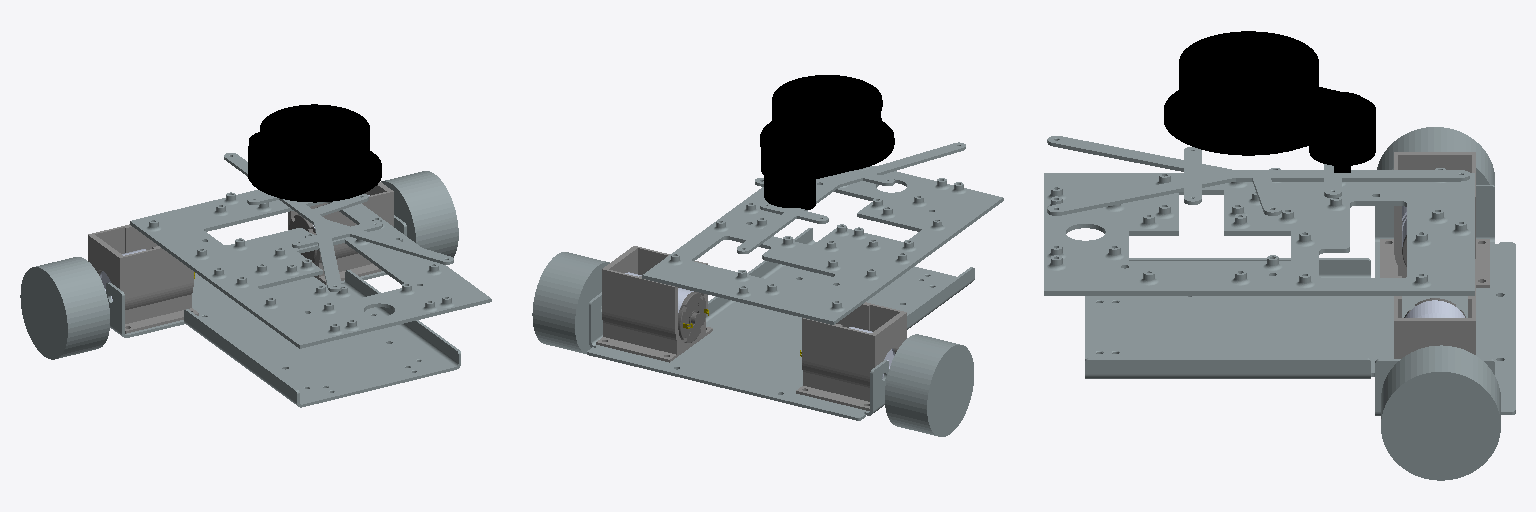
robot.urdf — robotassembly:
<robot name="robotassembly">
    <link name="base_footprint" />

    <link name="base_link" />

    <joint name="base_footprint_to_base_link_joint" type="fixed">
        <origin xyz="0 0 0" rpy="0 0 0" />
        <parent link="base_footprint" />
        <child link="base_link" />
    </joint>

    <joint name="base_link_to_root_joint" type="fixed">
        <origin xyz="0 0 0" rpy="0 0 0" />
        <parent link="base_link" />
        <child link="root" />
    </joint>

    <link name="motor_shaft__jgb37_520__chamfer1">
        <inertial>
            <mass value="5.9251e-07" />
            <origin xyz="-5.99947e-05 -1.4541e-10 0.0106081" rpy="0 -0 0" />
            <inertia ixx="2.40785e-11" ixy="0" ixz="1.68452e-13" iyy="2.39875e-11" iyz="0" izz="2.61188e-12" />
        </inertial>
        <visual>
            <origin xyz="0 0 0" rpy="0 -0 0" />
            <geometry>
                <mesh filename="package://robotassembly/meshes/MOTOR_SHAFT__JGB37_520__CHAMFER1.stl" scale="1 1 1" />
            </geometry>
            <material name="0.811765_0.843137_0.909804_0.000000_0.000000">
                <color rgba="0.811765 0.843137 0.909804 1" />
            </material>
        </visual>
    </link>

    <link name="motor_shaft__jgb37_520__chamfer1_1">
        <inertial>
            <mass value="5.9251e-07" />
            <origin xyz="-5.99947e-05 -1.4541e-10 0.0106081" rpy="0 -0 0" />
            <inertia ixx="2.40785e-11" ixy="0" ixz="1.68452e-13" iyy="2.39875e-11" iyz="0" izz="2.61188e-12" />
        </inertial>
        <visual>
            <origin xyz="0 0 0" rpy="0 -0 0" />
            <geometry>
                <mesh filename="package://robotassembly/meshes/MOTOR_SHAFT__JGB37_520__CHAMFER1.stl" scale="1 1 1" />
            </geometry>
            <material name="0.811765_0.843137_0.909804_0.000000_0.000000">
                <color rgba="0.811765 0.843137 0.909804 1" />
            </material>
        </visual>
    </link>

    <link name="root">
        <visual>
            <origin xyz="-0.0695 -0.126 0.0685" rpy="0 -0 0" />
            <geometry>
                <mesh filename="package://robotassembly/meshes/rplidarsheet__SB_Tab__1_.stl" scale="1 1 1" />
            </geometry>
            <material name="0.611765_0.658824_0.670588_0.000000_0.000000">
                <color rgba="0.611765 0.658824 0.670588 1" />
            </material>
        </visual>
        <visual>
            <origin xyz="0.0005 -0.0175 0.036" rpy="0 -0 0" />
            <geometry>
                <mesh filename="package://robotassembly/meshes/lastbaseplate__BODY1.stl" scale="1 1 1" />
            </geometry>
            <material name="0.611765_0.658824_0.670588_0.000000_0.000000">
                <texture />
                <color rgba="0.611765 0.658824 0.670588 1" />
            </material>
        </visual>
        <visual>
            <origin xyz="0.0005 -0.0255 0.1005" rpy="8.05827e-16 -5.87673e-16 1.5708" />
            <geometry>
                <mesh filename="package://robotassembly/meshes/RPlidar__Body1.stl" scale="1 1 1" />
            </geometry>
            <material name="0.000000_0.000000_0.000000_0.000000_0.000000">
                <texture />
                <color rgba="0 0 0 1" />
            </material>
        </visual>
        <visual>
            <origin xyz="-0.096 0.0675 0.00637336" rpy="-1.5708 -1.25363e-06 1.5708" />
            <geometry>
                <mesh filename="package://robotassembly/meshes/GEARED_BODY__MOTOR__JGB37_5201484__BODY2.stl" scale="1 1 1" />
            </geometry>
            <material name="0.600000_0.600000_0.600000_0.000000_0.000000">
                <texture />
                <color rgba="0.6 0.6 0.6 1" />
            </material>
        </visual>
        <visual>
            <origin xyz="0.096 0.0674981 0.00639603" rpy="-1.5708 -0.000754694 -1.5708" />
            <geometry>
                <mesh filename="package://robotassembly/meshes/GEARED_BODY__MOTOR__JGB37_5201484__BODY2.stl" scale="1 1 1" />
            </geometry>
            <material name="0.600000_0.600000_0.600000_0.000000_0.000000">
                <texture />
                <color rgba="0.6 0.6 0.6 1" />
            </material>
        </visual>
        <visual>
            <origin xyz="-0.1 -0.1075 -0.016" rpy="0 -0 0" />
            <geometry>
                <mesh filename="package://robotassembly/meshes/Sheetmetalbase__SB_Tab__1_.stl" scale="1 1 1" />
            </geometry>
            <material name="0.611765_0.658824_0.670588_0.000000_0.000000">
                <texture />
                <color rgba="0.611765 0.658824 0.670588 1" />
            </material>
        </visual>
        <visual>
            <origin xyz="-0.096 0.0675 0.00637336" rpy="-1.5708 -1.25363e-06 1.5708" />
            <geometry>
                <mesh filename="package://robotassembly/meshes/GEARED_BODY__MOTOR__JGB37_520__FILLET1.stl" scale="1 1 1" />
            </geometry>
            <material name="0.811765_0.843137_0.909804_0.000000_0.000000">
                <texture />
                <color rgba="0.811765 0.843137 0.909804 1" />
            </material>
        </visual>
        <visual>
            <origin xyz="-0.067 0.0675 0.00637336" rpy="0 1.5708 3.14159" />
            <geometry>
                <mesh filename="package://robotassembly/meshes/DC_MOTOR__JGB37_520__FILLET1.stl" scale="1 1 1" />
            </geometry>
            <material name="0.811765_0.843137_0.909804_0.000000_0.000000">
                <texture />
                <color rgba="0.811765 0.843137 0.909804 1" />
            </material>
        </visual>
        <visual>
            <origin xyz="-0.096 0.052 0.00637334" rpy="1.164 2.07079e-15 1.39184e-15" />
            <geometry>
                <mesh filename="package://robotassembly/meshes/pan_cross_head_am_B18_6_7M___M2_x_0_4_x_25_Type_I_Cross_Recessed_PHMS___25N__CIRPATTERN1.stl" scale="1 1 1" />
            </geometry>
            <material name="0.800000_0.800000_0.800000_0.000000_0.000000">
                <texture />
                <color rgba="0.8 0.8 0.8 1" />
            </material>
        </visual>
        <visual>
            <origin xyz="-0.096 0.0675 -0.000626644" rpy="-1.5708 -0.683857 1.5708" />
            <geometry>
                <mesh filename="package://robotassembly/meshes/SHAFT_COUPLER__JGB37_520__CHAMFER1.stl" scale="1 1 1" />
            </geometry>
            <material name="0.811765_0.843137_0.909804_0.000000_0.000000">
                <texture />
                <color rgba="0.811765 0.843137 0.909804 1" />
            </material>
        </visual>
        <visual>
            <origin xyz="-0.071 0.0675 0.00637336" rpy="0 1.5708 -3.14159" />
            <geometry>
                <mesh filename="package://robotassembly/meshes/COUPLING_BRACKET__GEARED_BODY_TO_DC_MOTOR__JGB37_520__CUT_EXTRUDE1.stl" scale="1 1 1" />
            </geometry>
            <material name="0.811765_0.843137_0.909804_0.000000_0.000000">
                <texture />
                <color rgba="0.811765 0.843137 0.909804 1" />
            </material>
        </visual>
        <visual>
            <origin xyz="-0.04575 0.0803 0.00637337" rpy="0 1.5708 -1.25363e-06" />
            <geometry>
                <mesh filename="package://robotassembly/meshes/CONNECTION__DC_MOTOR__JGB37_520__CHAMFER1.stl" scale="1 1 1" />
            </geometry>
            <material name="0.607843_0.564706_0.000000_0.000000_0.000000">
                <texture />
                <color rgba="0.607843 0.564706 0 1" />
            </material>
        </visual>
        <visual>
            <origin xyz="-0.096 0.07525 0.0197968" rpy="-0.930396 2.07079e-15 1.39184e-15" />
            <geometry>
                <mesh filename="package://robotassembly/meshes/pan_cross_head_am_B18_6_7M___M2_x_0_4_x_25_Type_I_Cross_Recessed_PHMS___25N__CIRPATTERN1.stl" scale="1 1 1" />
            </geometry>
            <material name="0.800000_0.800000_0.800000_0.000000_0.000000">
                <texture />
                <color rgba="0.8 0.8 0.8 1" />
            </material>
        </visual>
        <visual>
            <origin xyz="-0.04575 0.0547 0.00637334" rpy="0 -1.5708 3.14159" />
            <geometry>
                <mesh filename="package://robotassembly/meshes/CONNECTION__DC_MOTOR__JGB37_520__CHAMFER1.stl" scale="1 1 1" />
            </geometry>
            <material name="0.607843_0.564706_0.000000_0.000000_0.000000">
                <texture />
                <color rgba="0.607843 0.564706 0 1" />
            </material>
        </visual>
        <visual>
            <origin xyz="-0.0475 0.0675 0.00637336" rpy="0 -1.5708 1.25363e-06" />
            <geometry>
                <mesh filename="package://robotassembly/meshes/PLASTIC_COVER__DC_MOTOR__JGB37_520__FILLET2.stl" scale="1 1 1" />
            </geometry>
            <material name="0.490196_0.490196_0.490196_0.000000_0.000000">
                <texture />
                <color rgba="0.490196 0.490196 0.490196 1" />
            </material>
        </visual>
        <visual>
            <origin xyz="-0.096 0.07525 -0.00705003" rpy="-3.02479 2.07079e-15 1.39184e-15" />
            <geometry>
                <mesh filename="package://robotassembly/meshes/pan_cross_head_am_B18_6_7M___M2_x_0_4_x_25_Type_I_Cross_Recessed_PHMS___25N__CIRPATTERN1.stl" scale="1 1 1" />
            </geometry>
            <material name="0.800000_0.800000_0.800000_0.000000_0.000000">
                <texture />
                <color rgba="0.8 0.8 0.8 1" />
            </material>
        </visual>
        <visual>
            <origin xyz="0.04575 0.0546981 0.00640569" rpy="0 1.5708 -3.14235" />
            <geometry>
                <mesh filename="package://robotassembly/meshes/CONNECTION__DC_MOTOR__JGB37_520__CHAMFER1.stl" scale="1 1 1" />
            </geometry>
            <material name="0.607843_0.564706_0.000000_0.000000_0.000000">
                <texture />
                <color rgba="0.607843 0.564706 0 1" />
            </material>
        </visual>
        <visual>
            <origin xyz="0.096 0.0597379 -0.00702151" rpy="-3.02404 4.62013e-15 -3.14159" />
            <geometry>
                <mesh filename="package://robotassembly/meshes/pan_cross_head_am_B18_6_7M___M2_x_0_4_x_25_Type_I_Cross_Recessed_PHMS___25N__CIRPATTERN1.stl" scale="1 1 1" />
            </geometry>
            <material name="0.800000_0.800000_0.800000_0.000000_0.000000">
                <texture />
                <color rgba="0.8 0.8 0.8 1" />
            </material>
        </visual>
        <visual>
            <origin xyz="0.096 0.0674928 -0.000603964" rpy="-1.5708 -0.68461 -1.5708" />
            <geometry>
                <mesh filename="package://robotassembly/meshes/SHAFT_COUPLER__JGB37_520__CHAMFER1.stl" scale="1 1 1" />
            </geometry>
            <material name="0.811765_0.843137_0.909804_0.000000_0.000000">
                <texture />
                <color rgba="0.811765 0.843137 0.909804 1" />
            </material>
        </visual>
        <visual>
            <origin xyz="0.04575 0.0802981 0.00638637" rpy="0 -1.5708 -0.000754694" />
            <geometry>
                <mesh filename="package://robotassembly/meshes/CONNECTION__DC_MOTOR__JGB37_520__CHAMFER1.stl" scale="1 1 1" />
            </geometry>
            <material name="0.607843_0.564706_0.000000_0.000000_0.000000">
                <texture />
                <color rgba="0.607843 0.564706 0 1" />
            </material>
        </visual>
        <visual>
            <origin xyz="0.071 0.0674981 0.00639603" rpy="0 1.5708 0.000754694" />
            <geometry>
                <mesh filename="package://robotassembly/meshes/COUPLING_BRACKET__GEARED_BODY_TO_DC_MOTOR__JGB37_520__CUT_EXTRUDE1.stl" scale="1 1 1" />
            </geometry>
            <material name="0.811765_0.843137_0.909804_0.000000_0.000000">
                <texture />
                <color rgba="0.811765 0.843137 0.909804 1" />
            </material>
        </visual>
        <visual>
            <origin xyz="0.0475 0.0674981 0.00639603" rpy="0 -1.5708 3.14235" />
            <geometry>
                <mesh filename="package://robotassembly/meshes/PLASTIC_COVER__DC_MOTOR__JGB37_520__FILLET2.stl" scale="1 1 1" />
            </geometry>
            <material name="0.490196_0.490196_0.490196_0.000000_0.000000">
                <texture />
                <color rgba="0.490196 0.490196 0.490196 1" />
            </material>
        </visual>
        <visual>
            <origin xyz="0.096 0.0674981 0.00639603" rpy="-1.5708 -0.000754694 -1.5708" />
            <geometry>
                <mesh filename="package://robotassembly/meshes/GEARED_BODY__MOTOR__JGB37_520__FILLET1.stl" scale="1 1 1" />
            </geometry>
            <material name="0.811765_0.843137_0.909804_0.000000_0.000000">
                <texture />
                <color rgba="0.811765 0.843137 0.909804 1" />
            </material>
        </visual>
        <visual>
            <origin xyz="0.096 0.0597582 0.0198253" rpy="-0.929643 4.62013e-15 -3.14159" />
            <geometry>
                <mesh filename="package://robotassembly/meshes/pan_cross_head_am_B18_6_7M___M2_x_0_4_x_25_Type_I_Cross_Recessed_PHMS___25N__CIRPATTERN1.stl" scale="1 1 1" />
            </geometry>
            <material name="0.800000_0.800000_0.800000_0.000000_0.000000">
                <texture />
                <color rgba="0.8 0.8 0.8 1" />
            </material>
        </visual>
        <visual>
            <origin xyz="0.096 0.0829981 0.00638434" rpy="1.16475 4.62013e-15 -3.14159" />
            <geometry>
                <mesh filename="package://robotassembly/meshes/pan_cross_head_am_B18_6_7M___M2_x_0_4_x_25_Type_I_Cross_Recessed_PHMS___25N__CIRPATTERN1.stl" scale="1 1 1" />
            </geometry>
            <material name="0.800000_0.800000_0.800000_0.000000_0.000000">
                <texture />
                <color rgba="0.8 0.8 0.8 1" />
            </material>
        </visual>
        <visual>
            <origin xyz="0.067 0.0674981 0.00639603" rpy="0 1.5708 0.000754694" />
            <geometry>
                <mesh filename="package://robotassembly/meshes/DC_MOTOR__JGB37_520__FILLET1.stl" scale="1 1 1" />
            </geometry>
            <material name="0.811765_0.843137_0.909804_0.000000_0.000000">
                <texture />
                <color rgba="0.811765 0.843137 0.909804 1" />
            </material>
        </visual>
    </link>

    <link name="laser_frame" />

    <joint name="root_to_laser_frame_joint" type="fixed">
        <origin xyz="0.0005 -0.0255 0.1005" rpy="0 0 1.5708" />
        <parent link="root" />
        <child link="laser_frame" />
    </joint>

    <link name="wheel__extrude__2_">
        <inertial>
            <mass value="8.79897e-05" />
            <origin xyz="-5.42815e-20 0.0214171 1.92154e-20" rpy="0 -0 0" />
            <inertia ixx="2.68941e-08" ixy="0" ixz="0" iyy="3.94534e-08" iyz="0" izz="2.68941e-08" />
        </inertial>
        <visual>
            <origin xyz="0 0.037 0" rpy="0 -0 0" />
            <geometry>
                <mesh filename="package://robotassembly/meshes/wheele2.stl" scale="1 1 1" />
            </geometry>
            <material name="0.611765_0.658824_0.670588_0.000000_0.000000">
                <color rgba="0.611765 0.658824 0.670588 1" />
            </material>
        </visual>
    </link>

    <link name="wheel__extrude__2__1">
        <inertial>
            <mass value="8.79897e-05" />
            <origin xyz="-0.003 0.0214171 3.86609e-19" rpy="0 -0 0" />
            <inertia ixx="2.68941e-08" ixy="0" ixz="0" iyy="3.94534e-08" iyz="0" izz="2.68941e-08" />
        </inertial>
        <visual>
            <origin xyz="-0.003 0.037 3.67394e-19" rpy="0 -0 0" />
            <geometry>
                <mesh filename="package://robotassembly/meshes/wheele2.stl" scale="1 1 1" />
            </geometry>
            <material name="0.611765_0.658824_0.670588_0.000000_0.000000">
                <color rgba="0.611765 0.658824 0.670588 1" />
            </material>
        </visual>
    </link>

    <joint name="hanging_node_to_root_joint" type="fixed">
        <origin xyz="-0.096 0.0675 -0.000626644" rpy="-1.5708 1.23005 1.5708" />
        <axis xyz="0 0 1" />
        <parent link="root" />
        <child link="motor_shaft__jgb37_520__chamfer1" />
    </joint>

    <joint name="hanging_node_to_root_joint_1" type="fixed">
        <origin xyz="0.096 0.0674928 -0.000603964" rpy="-1.5708 1.2293 -1.5708" />
        <axis xyz="0 0 1" />
        <parent link="root" />
        <child link="motor_shaft__jgb37_520__chamfer1_1" />
    </joint>

    <joint name="left_wheel_joint" type="continuous">
        <origin xyz="-3.46945e-18 -1.38778e-17 0.0105" rpy="1.5708 -0 -1.5708" />
        <axis xyz="0 -1 0" />
        <parent link="motor_shaft__jgb37_520__chamfer1_1" />
        <child link="wheel__extrude__2__1" />
    </joint>

    <joint name="right_wheel_joint" type="continuous">
        <origin xyz="-3.46945e-18 1.38778e-17 0.0105" rpy="1.5708 -0 -1.5708" />
        <axis xyz="0 1 0" />
        <parent link="motor_shaft__jgb37_520__chamfer1" />
        <child link="wheel__extrude__2_" />
    </joint>

    <ros2_control name="manta_hardware" type="system">
        <hardware>
            <plugin>manta_hardware/MantaHardware</plugin>
            <param name="serial_port">/dev/ttyAMA0</param>
        </hardware>
        <joint name="left_wheel_joint">
            <command_interface name="velocity" />
            <state_interface name="velocity" />
            <state_interface name="position" />
        </joint>
        <joint name="right_wheel_joint">
            <command_interface name="velocity" />
            <state_interface name="velocity" />
            <state_interface name="position" />
        </joint>
    </ros2_control>
</robot>

--- Facts derived from the render (not from the file) ---
3 views of the same robot in one strip: view 1: azimuth 30°, elevation 25°; view 2: azimuth 150°, elevation 25°; view 3: azimuth 270°, elevation 25° (orthographic).
Robot: robotassembly — 8 links, 7 joints (2 continuous, 5 fixed); root link base_footprint; default pose: all joints at 0.
Visible links, largest first — view 1: root, wheel__extrude__2_, wheel__extrude__2__1; view 2: root, wheel__extrude__2_, wheel__extrude__2__1; view 3: root, wheel__extrude__2__1, wheel__extrude__2_.
Link boxes in pixels (bbox=[...]): root: bbox=[88, 104, 491, 407]; wheel__extrude__2_: bbox=[20, 257, 109, 359]; wheel__extrude__2__1: bbox=[381, 171, 458, 257]; root: bbox=[587, 75, 1003, 420]; wheel__extrude__2_: bbox=[885, 334, 973, 436]; wheel__extrude__2__1: bbox=[532, 252, 609, 353]; root: bbox=[1044, 31, 1515, 415]; wheel__extrude__2__1: bbox=[1381, 345, 1500, 480]; wheel__extrude__2_: bbox=[1377, 127, 1494, 185].
Bounding box of the posed robot: 0.287 × 0.235 × 0.1653 m (x, y, z).
Meshes: 14 distinct files referenced, 30 mesh visuals loaded (14 binary STL).
